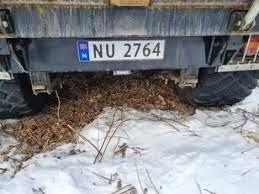license-plates: (80, 40, 165, 62)
